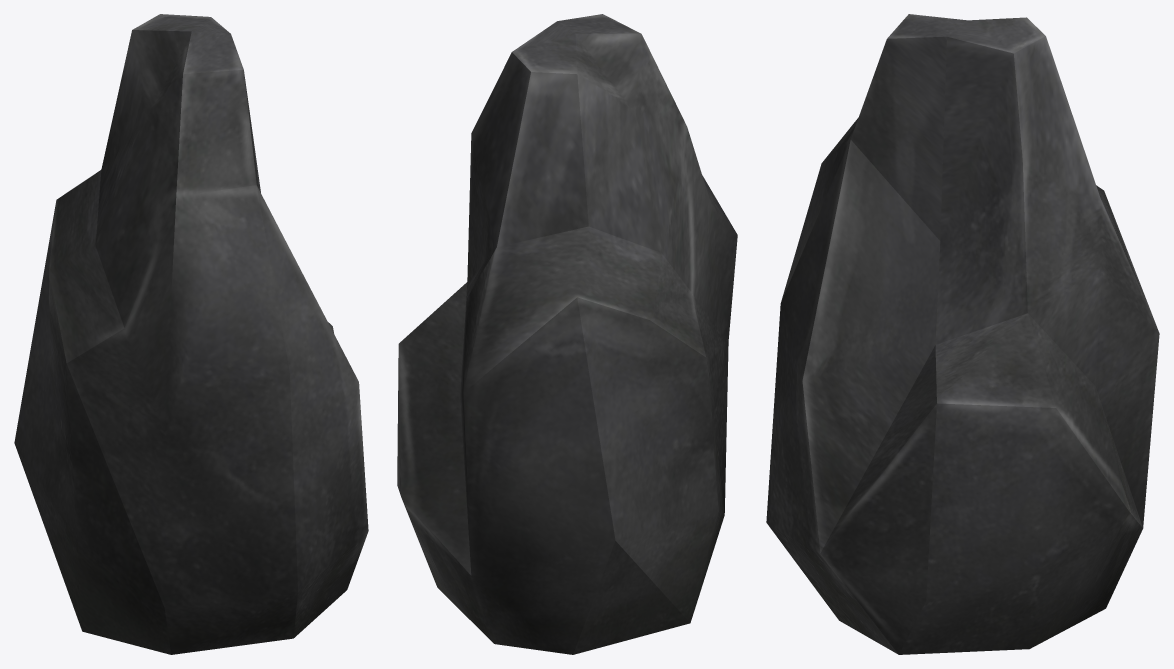
The model's file is modelRock02.fbx.
The picture shows the model from 3 angles, left to right: view 1: azimuth 30°, elevation 25°; view 2: azimuth 150°, elevation 25°; view 3: azimuth 270°, elevation 25°; orthographic projection. The views are drawn at different scales.
Parts seen in each view (by area): view 1: modelRock02; view 2: modelRock02; view 3: modelRock02.
Boxes of the visible parts, x1,y1,x2,y2 form: modelRock02: (14,14,368,654); modelRock02: (397,14,737,654); modelRock02: (766,14,1159,654).
Size of the model in its own units: 13.35 by 26.18 by 16.05.
